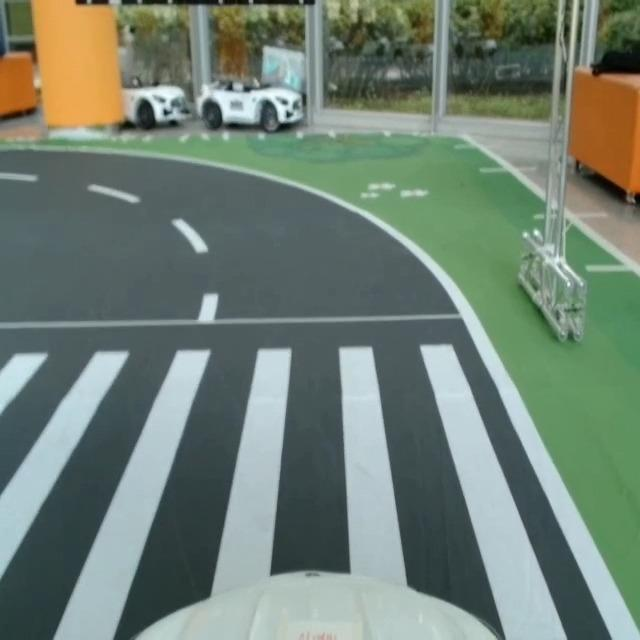traffic-light: (71, 0, 320, 12)
